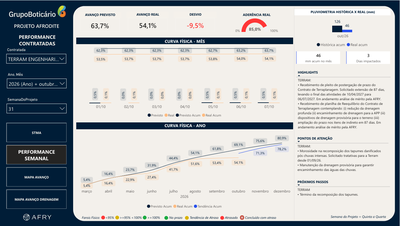

What the dashboard file says about the page in this screenshot:
{"tool":"powerbi","page":{"name":"PLUVIOMETRIA","canvas":[1280,720],"ordinal":20},"visuals":[{"type":"textbox","box":[235,45,1027,27],"z":0},{"type":"areaChart","title":"PLUVIOMETRIA AO LONGO DO MÊS","fields":{"Category":["Pluviometria.Data"],"Y":["Sum(Pluviometria.mm/dia)"],"Y2":["CountNonNull(Pluviometria.dia paralisado?)"]},"box":[239.4,386.6,646.4,321.9],"z":1000},{"type":"clusteredColumnChart","title":"PLUVIOMETRIA HISTÓRICA X REAL","fields":{"Category":["Pluviometria.Mês"],"Y":["Sum(Pluviometria.histórica acum)","Max(Pluviometria.mm acum)"]},"box":[445.1,78.9,813.1,281.1],"z":2000},{"type":"cardVisual","fields":{"Data":["Avg(Pluviometria.mm/dia)"]},"box":[238,169,189,90],"z":3000},{"type":"cardVisual","fields":{"Data":["Max(Pluviometria.mm acum)"]},"box":[237.5,74,190.1,90],"z":4000},{"type":"cardVisual","fields":{"Data":["CountNonNull(Pluviometria.dia paralisado?)"]},"box":[238,264,189,90],"z":5000},{"type":"bciCalendarCC0FA2BFE4B54EE1ACCFE383B9B1DE61","fields":{"category":["Pluviometria.Data"],"measure":["Sum(Pluviometria.mm/dia)"]},"box":[884,396,380,299],"z":6000},{"type":"textbox","box":[235,360,1029,27],"z":7000},{"type":"slicer","fields":{"Values":["Pluviometria.Mês"]},"box":[24,99,190,70],"z":8000},{"type":"pageNavigator","box":[20.9,390.9,192.7,275.5],"z":10000}]}

Visuals, with their boxes in screenshot pixels (x1, y1, x2, y2), scaled from the page's 1280x720 canvas onto the 400x226 screenshot:
textbox: (x1=73, y1=14, x2=394, y2=23)
"PLUVIOMETRIA AO LONGO DO MÊS" areaChart: (x1=75, y1=121, x2=277, y2=222)
"PLUVIOMETRIA HISTÓRICA X REAL" clusteredColumnChart: (x1=139, y1=25, x2=393, y2=113)
cardVisual - Avg(Pluviometria.mm/dia): (x1=74, y1=53, x2=133, y2=81)
cardVisual - Max(Pluviometria.mm acum): (x1=74, y1=23, x2=134, y2=51)
cardVisual - CountNonNull(Pluviometria.dia paralisado?): (x1=74, y1=83, x2=133, y2=111)
bciCalendarCC0FA2BFE4B54EE1ACCFE383B9B1DE61 - Pluviometria.Data x Sum(Pluviometria.mm/dia): (x1=276, y1=124, x2=395, y2=218)
textbox: (x1=73, y1=113, x2=395, y2=121)
slicer - Pluviometria.Mês: (x1=8, y1=31, x2=67, y2=53)
pageNavigator: (x1=7, y1=123, x2=67, y2=209)
